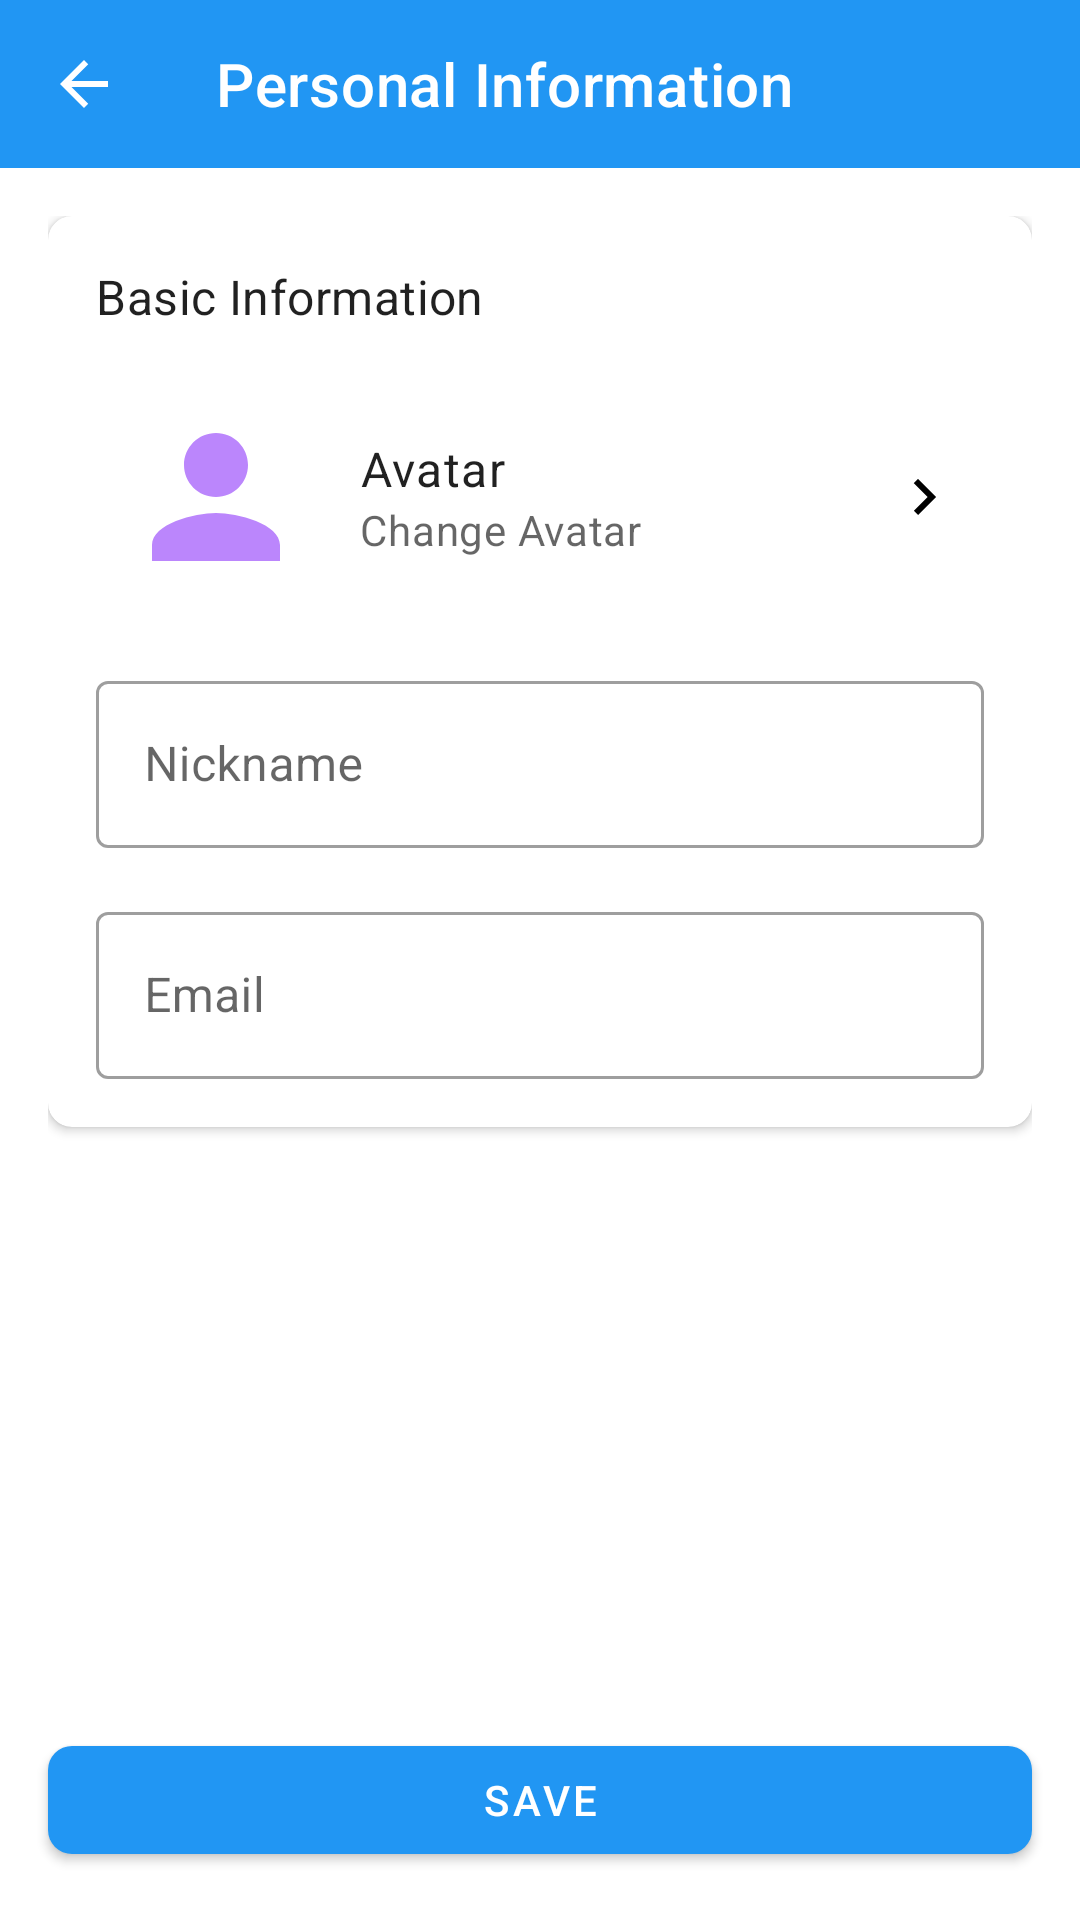

Screen size 1080 x 1920. Icon name, then its box in pixels as (x1, y1, x2, y2):
Arrow Right: (914, 479, 936, 515)
